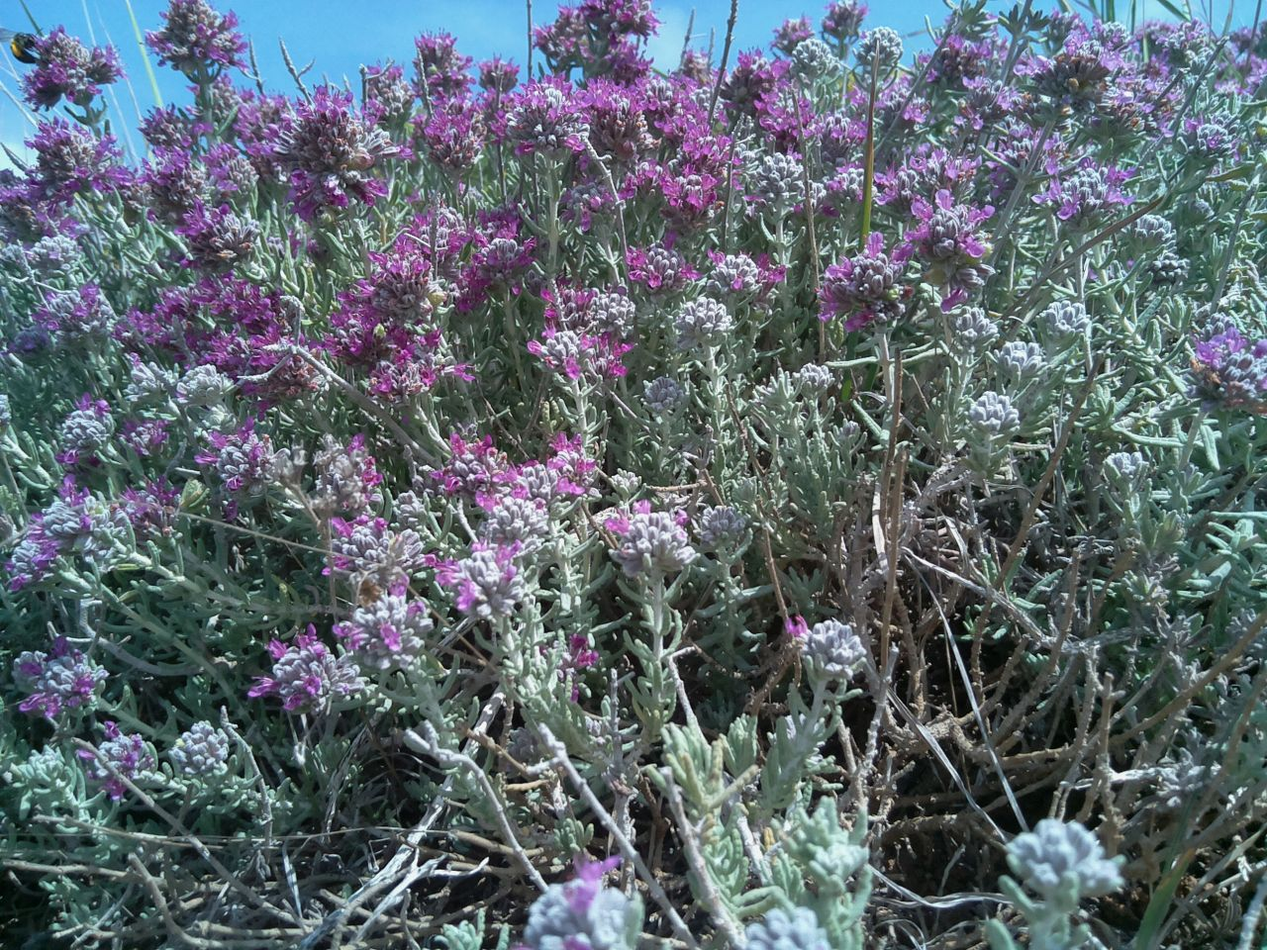bee: (3, 24, 44, 71)
